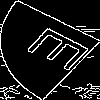E: (25, 25, 100, 78)
